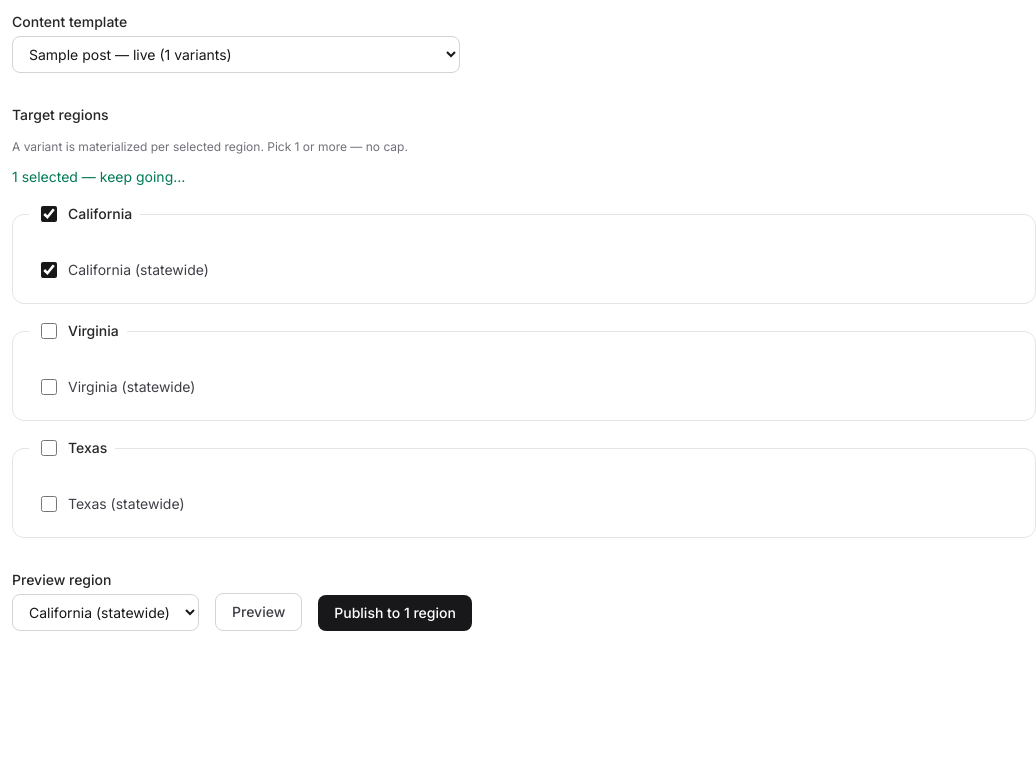
Test: VariantPublisher target region persistence › loads the selected template's saved regions when switching templates
Expected: the checkbox labelled "California (statewide)" is checked, [41,262,57,278]
Expected: the checkbox labelled "Texas (statewide)" is not checked, [41,496,57,512]
Step 1. Select "Other post — live (1 variants)" in the dropdown below "Content template" → (236, 54), box [12,36,460,73]
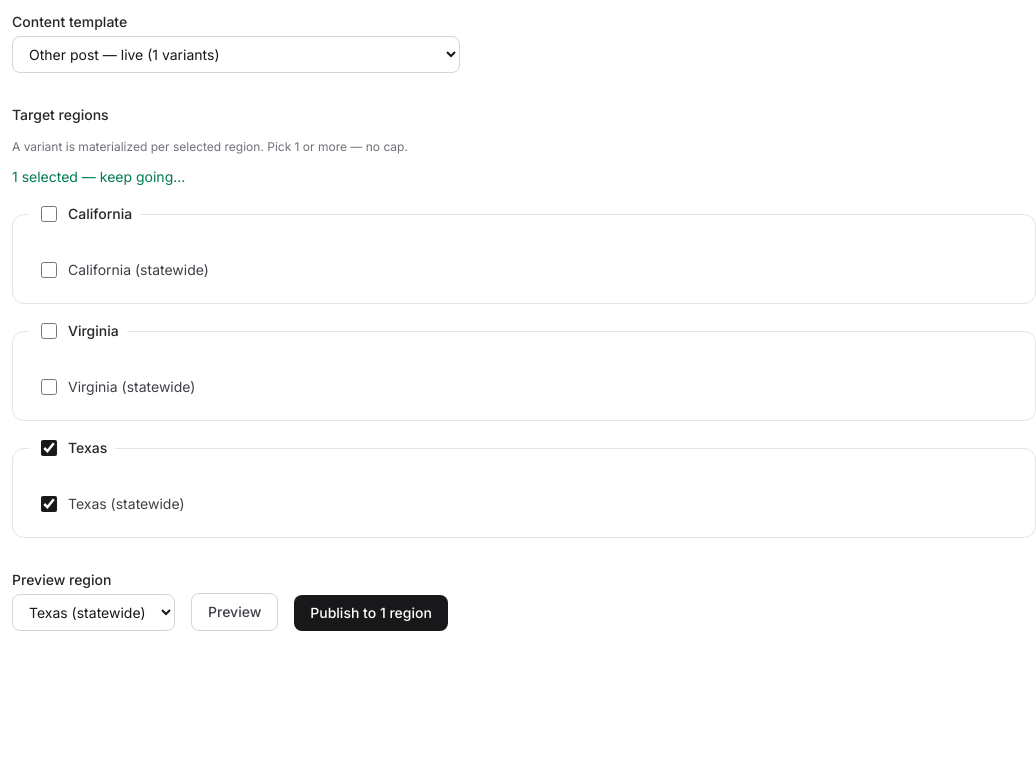
Expected: the checkbox labelled "California (statewide)" is not checked, [41,262,57,278]
Expected: the checkbox labelled "Texas (statewide)" is checked, [41,496,57,512]
